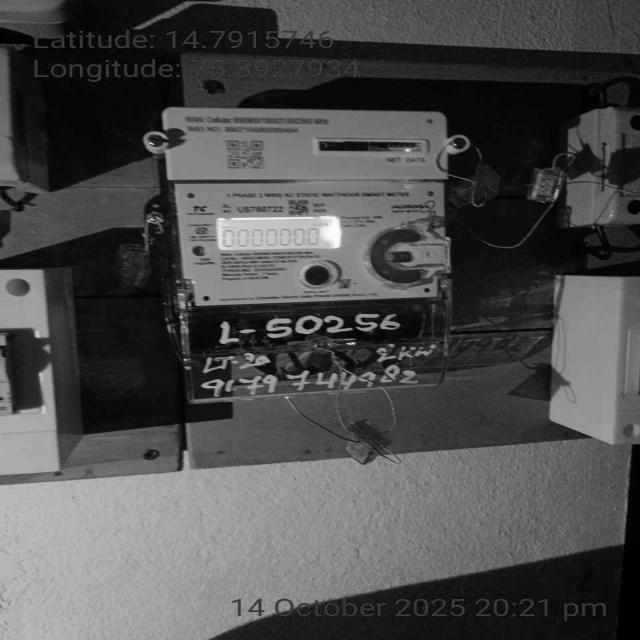meter: (160, 105, 455, 308)
